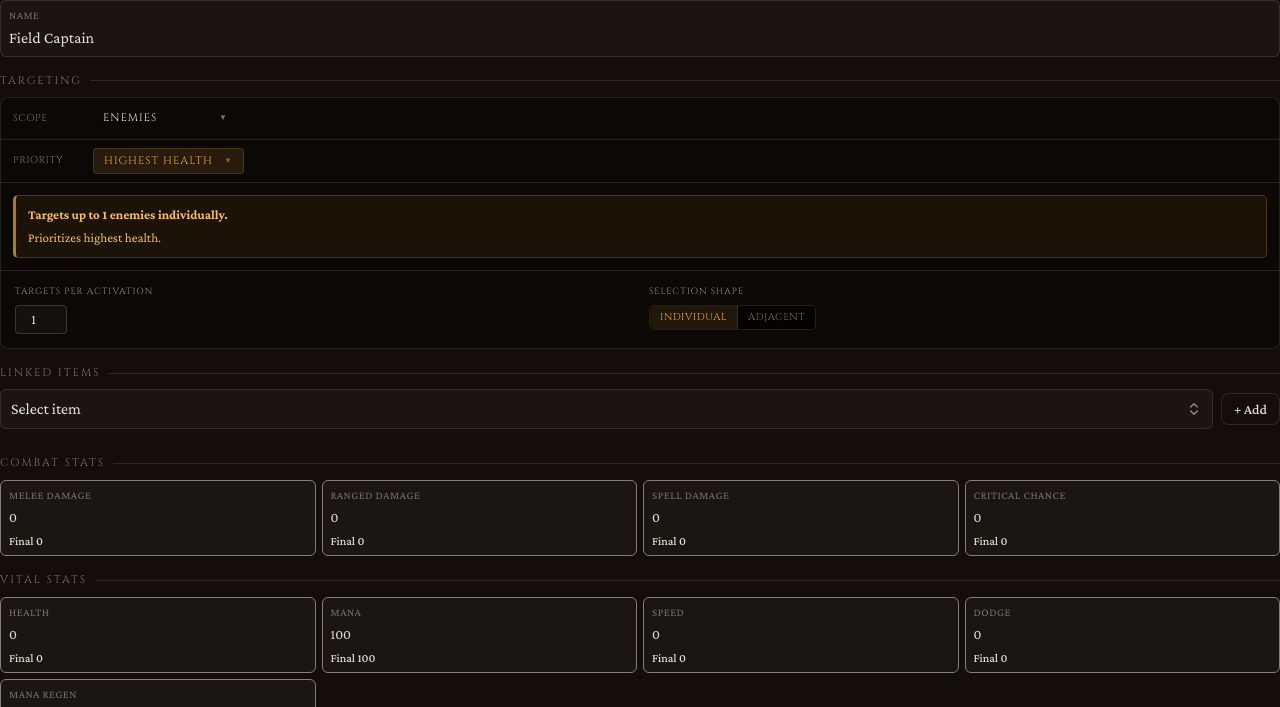
Scenario: UnitWorkspaceForm › limits the visible picker options to five and uses the search prompt only as a placeholder
Click the dropdown with test id "unit-item-picker" at (46, 409), box [0, 389, 1213, 429]
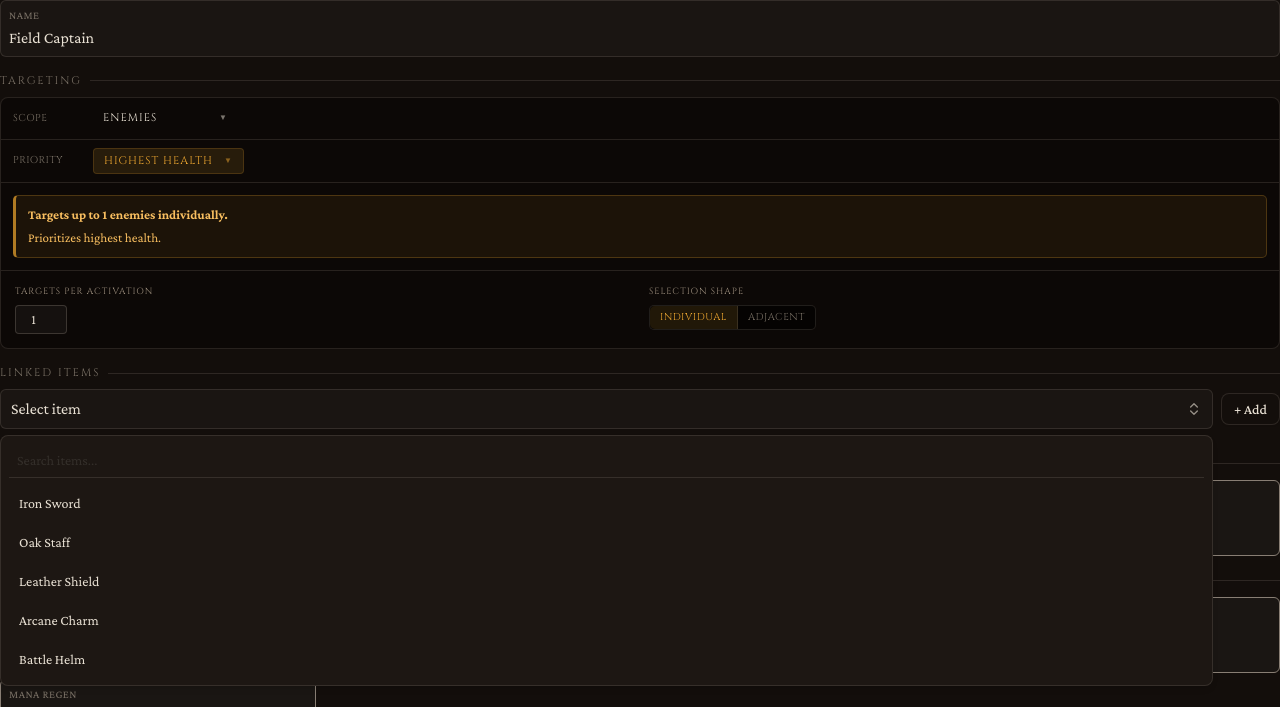
Check: the number of options is 5, box [9, 486, 1204, 521]; [9, 525, 1204, 560]; [9, 564, 1204, 599]; [9, 603, 1204, 638]; [9, 642, 1204, 677]
